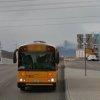Bus: (9, 38, 60, 92)
